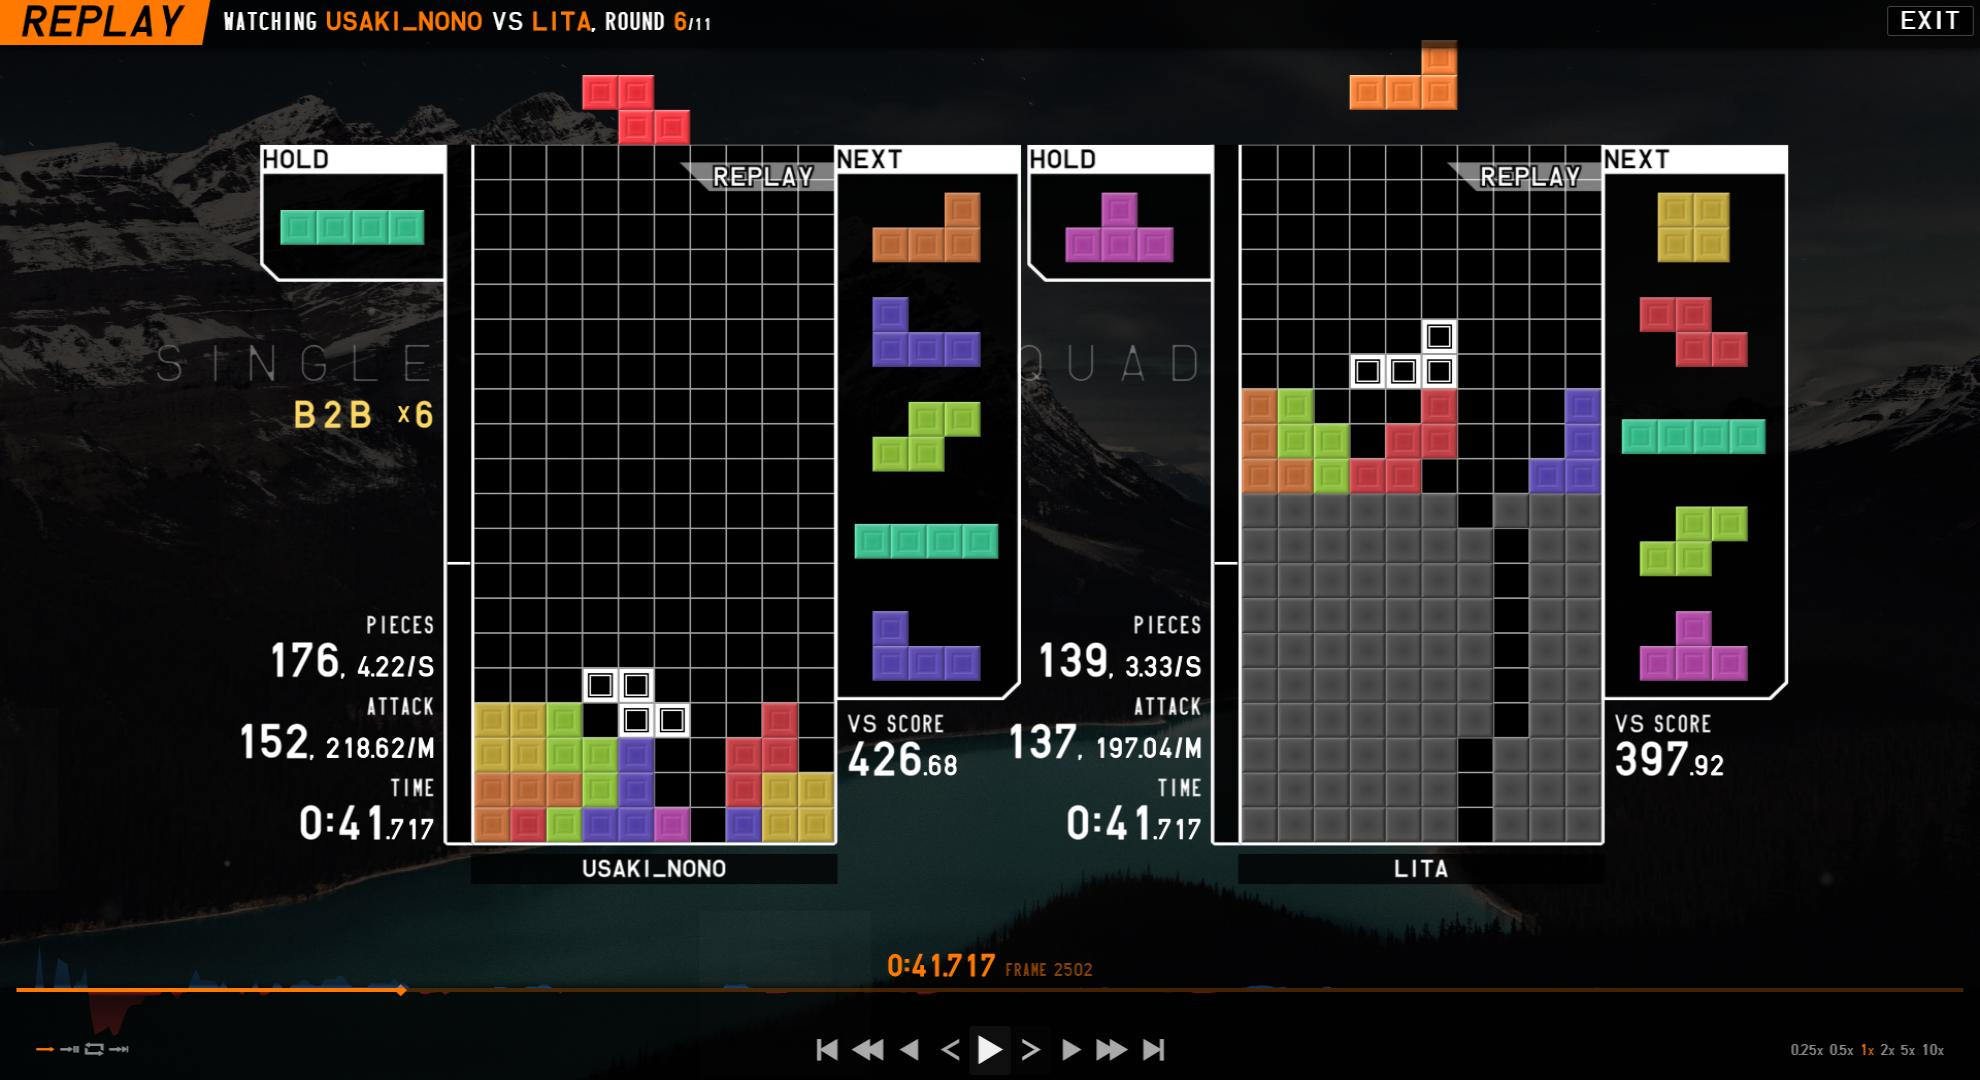tspin: (1420, 416, 1533, 531)
